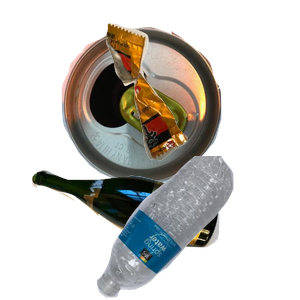glass: (29, 167, 241, 300)
metal: (59, 10, 273, 189)
plastic: (94, 156, 300, 300)
trash: (103, 21, 300, 174)
